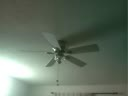window: (2, 1, 126, 96)
